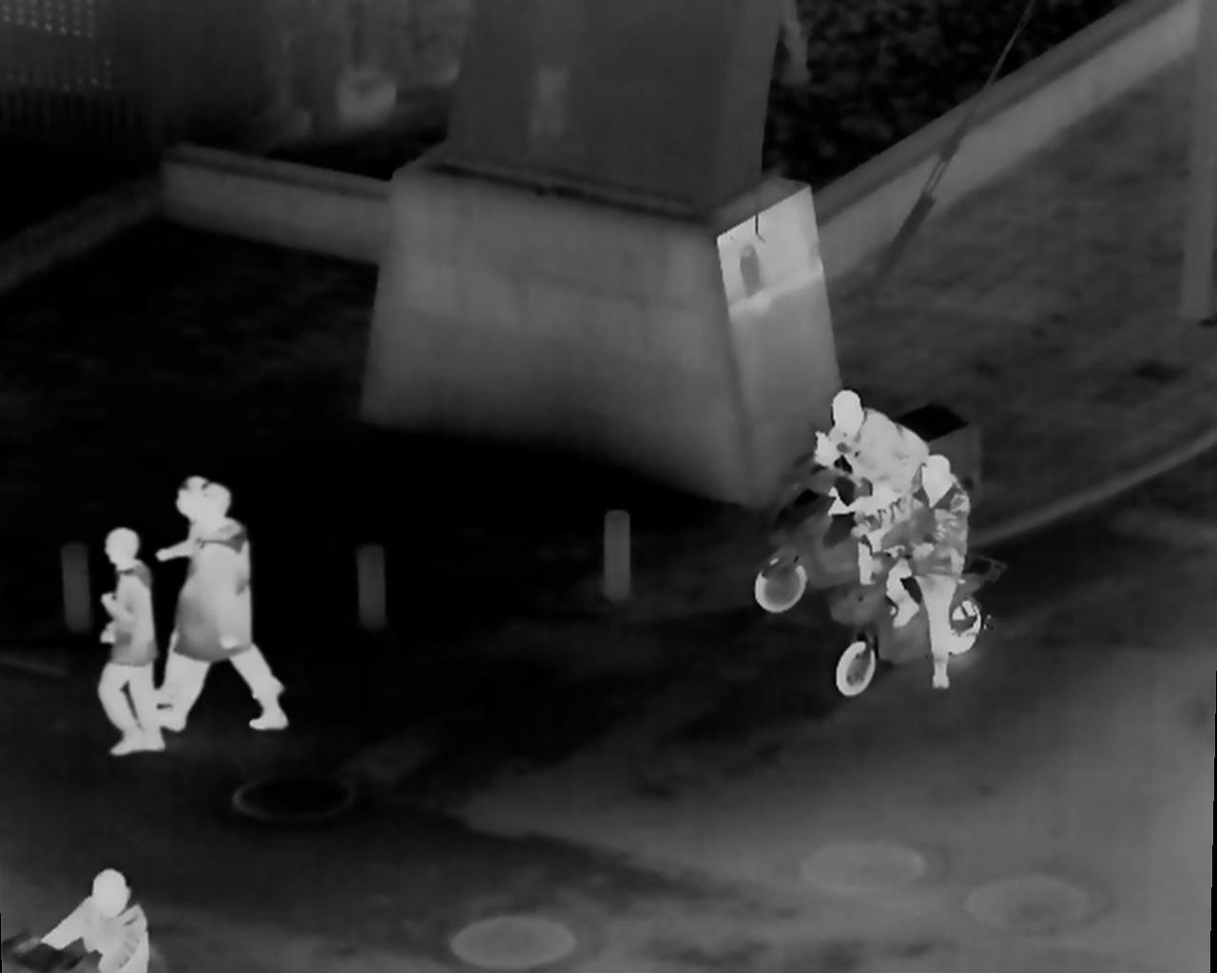person: (158, 486, 291, 732), (166, 480, 287, 703), (878, 455, 980, 677), (85, 525, 182, 754), (832, 391, 927, 569), (23, 872, 164, 970)
